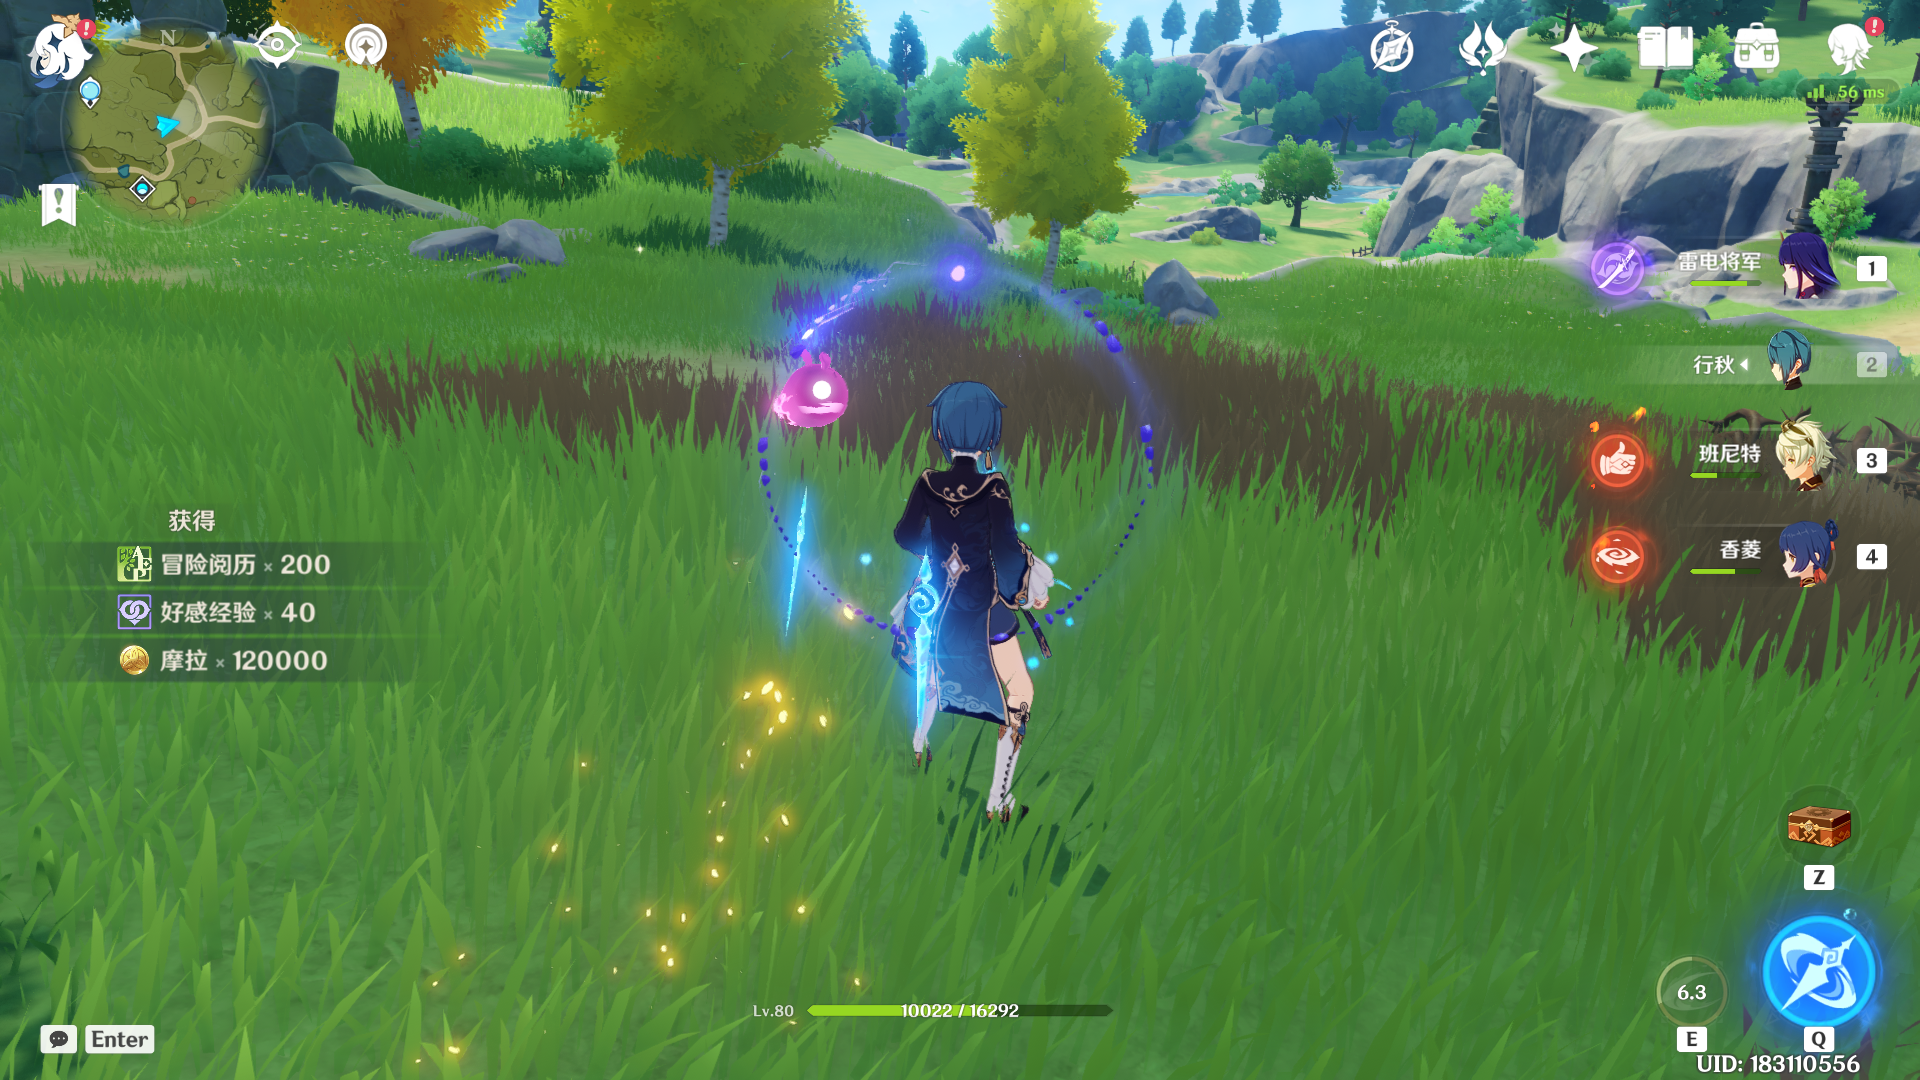character: (816, 359, 1126, 837)
